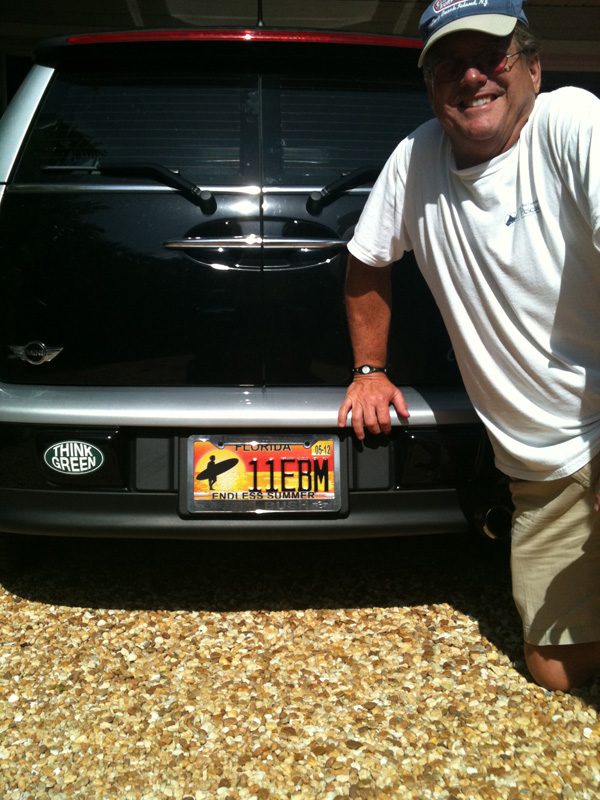license plate: (186, 436, 338, 513)
